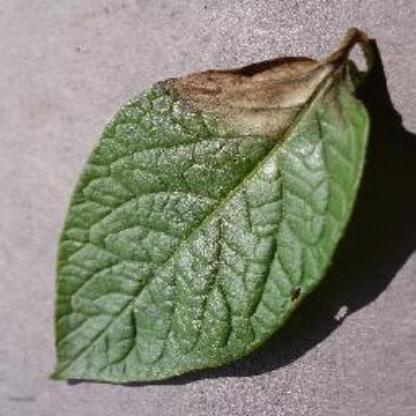Late-Blight: (38, 28, 382, 386)
